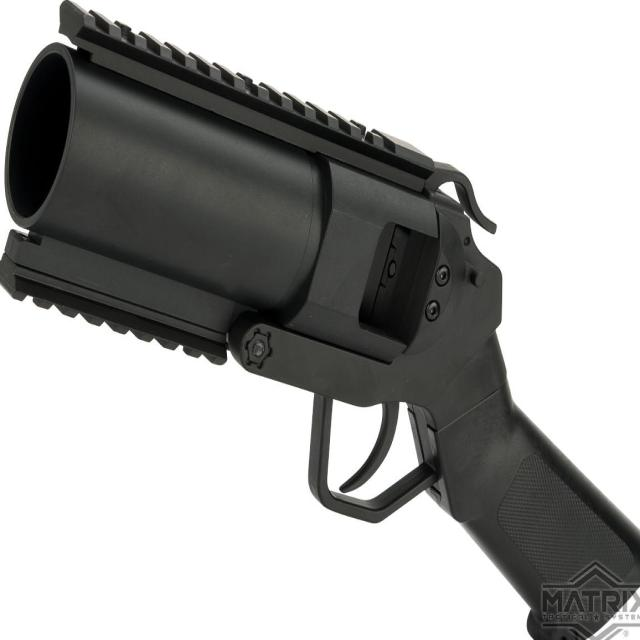Weapon: (0, 1, 640, 640)
